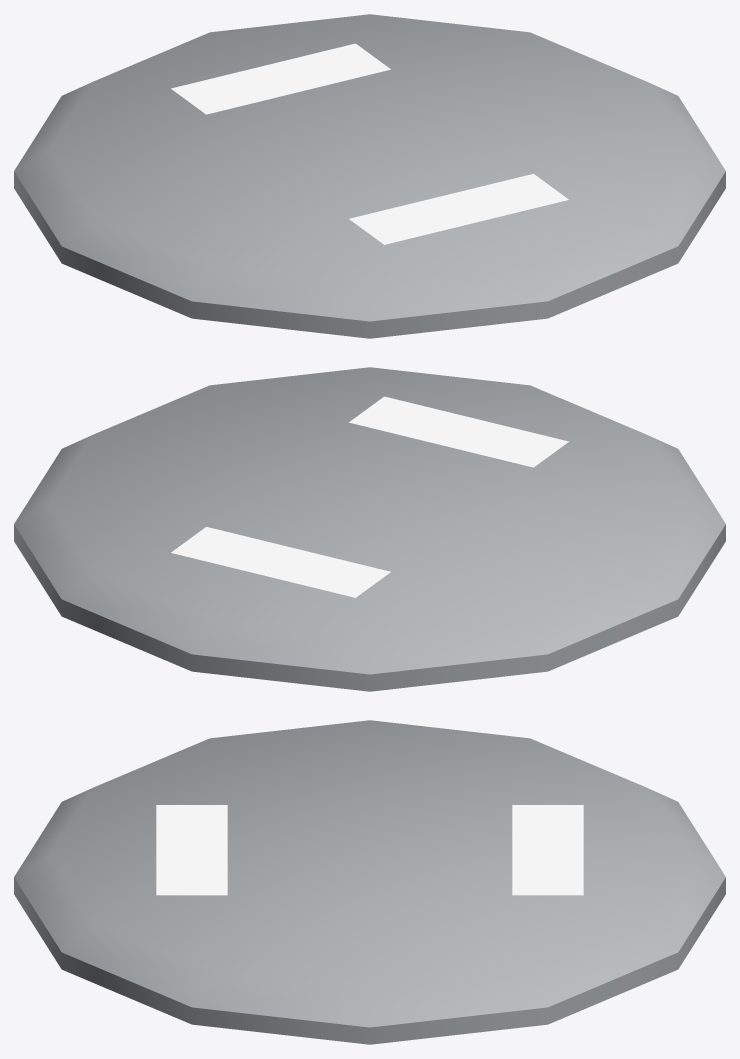
Rendered from inset_light.glb.
The picture shows the model from 3 angles, top to bottom: view 1: azimuth 30°, elevation 25°; view 2: azimuth 150°, elevation 25°; view 3: azimuth 270°, elevation 25°; orthographic projection.
Visible parts, largest first — view 1: LOD0; view 2: LOD0; view 3: LOD0.
Boxes of the visible parts, box(x1,y1,x2,y2) form: LOD0: box(14, 14, 725, 338); LOD0: box(14, 367, 725, 691); LOD0: box(14, 720, 725, 1044).
Size of the model in its own units: 0.3 by 0.0205 by 0.3.
Materials: 2 (1 with a texture image).
